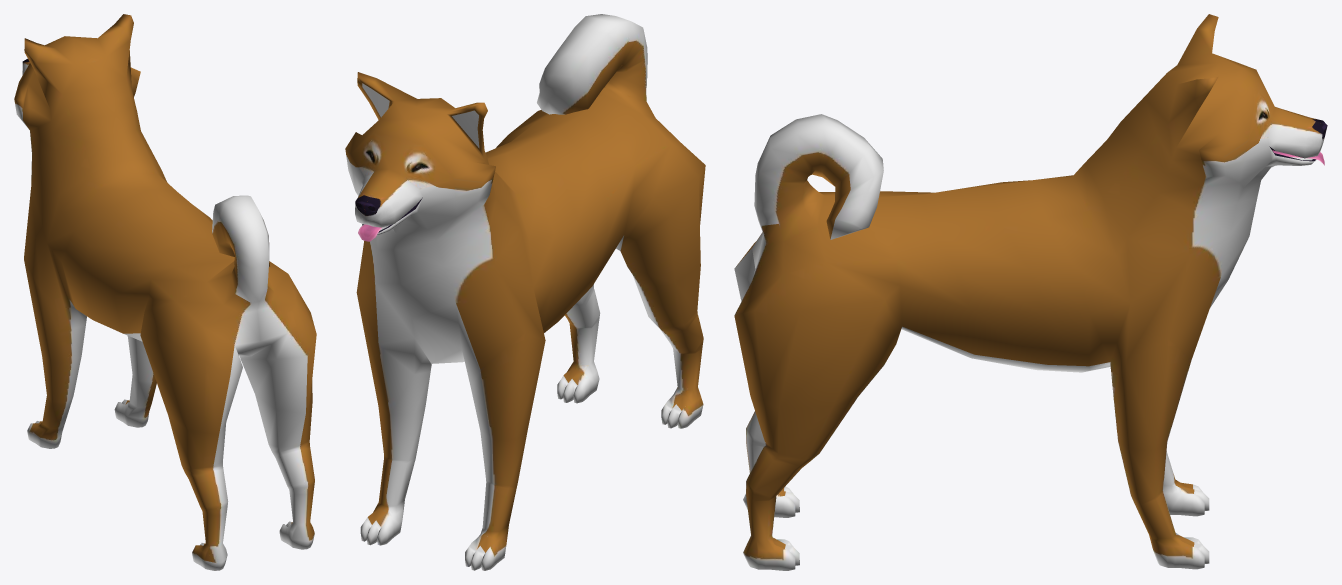
3 views of the same model, side by side, from view 1: azimuth 30°, elevation 25°; view 2: azimuth 150°, elevation 25°; view 3: azimuth 270°, elevation 25° (orthographic). The views are drawn at different scales.
Visible parts, largest first — view 1: Cylinder.001; view 2: Cylinder.001; view 3: Cylinder.001.
Part boxes in pixels (<box>): Cylinder.001: <box>14,14,316,570</box>; Cylinder.001: <box>345,14,705,570</box>; Cylinder.001: <box>734,14,1327,570</box>.
Size of what is drawn, in the model's own units: 3.38 by 8.74 by 9.55.
1 material, 1 textured.
